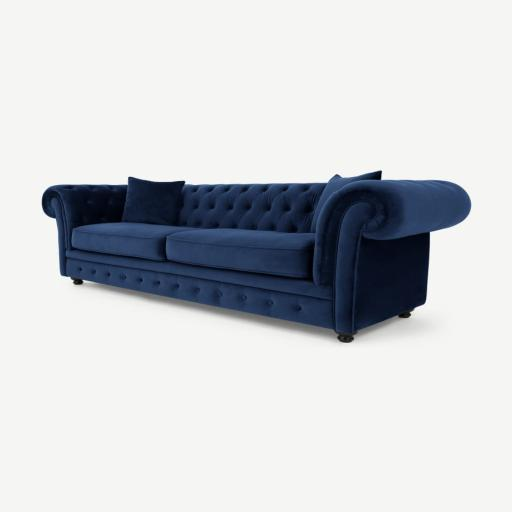back_cushion: (175, 183, 325, 233)
base: (67, 258, 333, 328)
left_arm: (328, 199, 429, 331)
legs: (335, 331, 357, 343), (398, 309, 413, 318), (72, 278, 82, 283)
right_arm: (42, 185, 127, 273)
seat_cushion: (71, 222, 314, 278)
two-seater: (0, 0, 511, 512)
